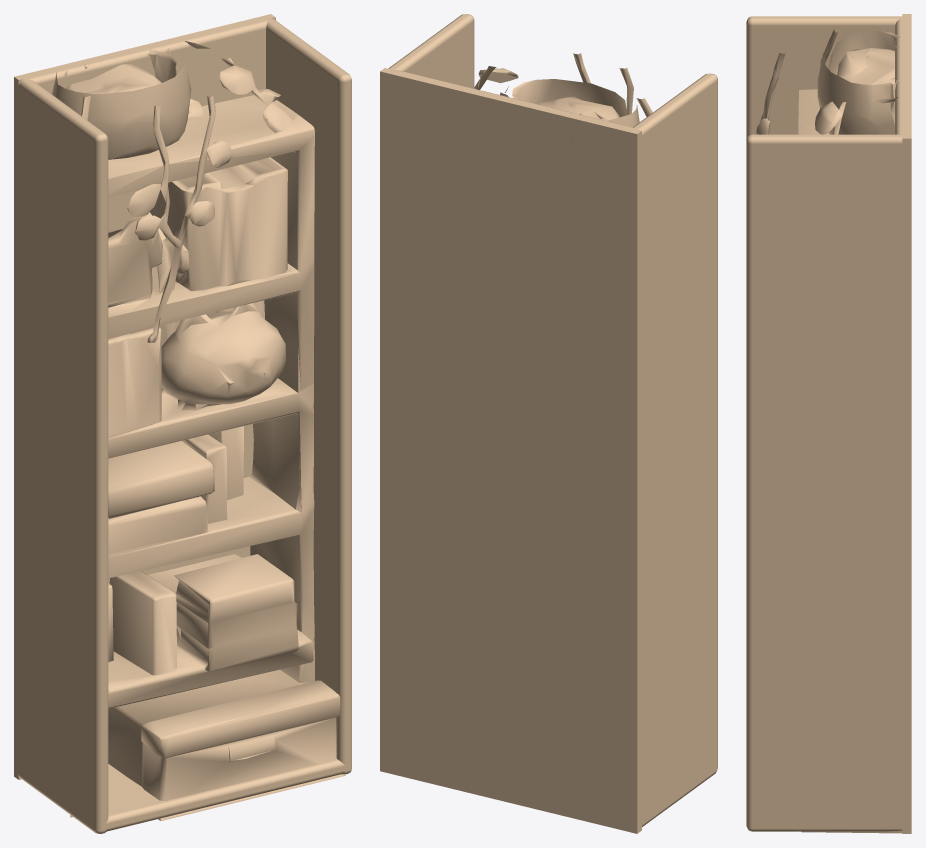
Rendered from show_study_tower.glb.
3 views of the same model, side by side, from view 1: azimuth 30°, elevation 25°; view 2: azimuth 150°, elevation 25°; view 3: azimuth 270°, elevation 25° (orthographic).
Bounding box in the file's own units: 1.25 × 3.25 × 0.7.
